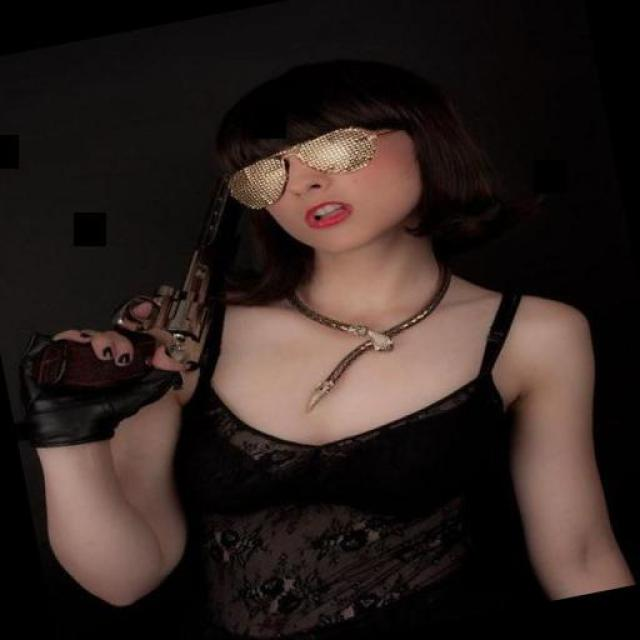gun: (0, 160, 282, 405)
